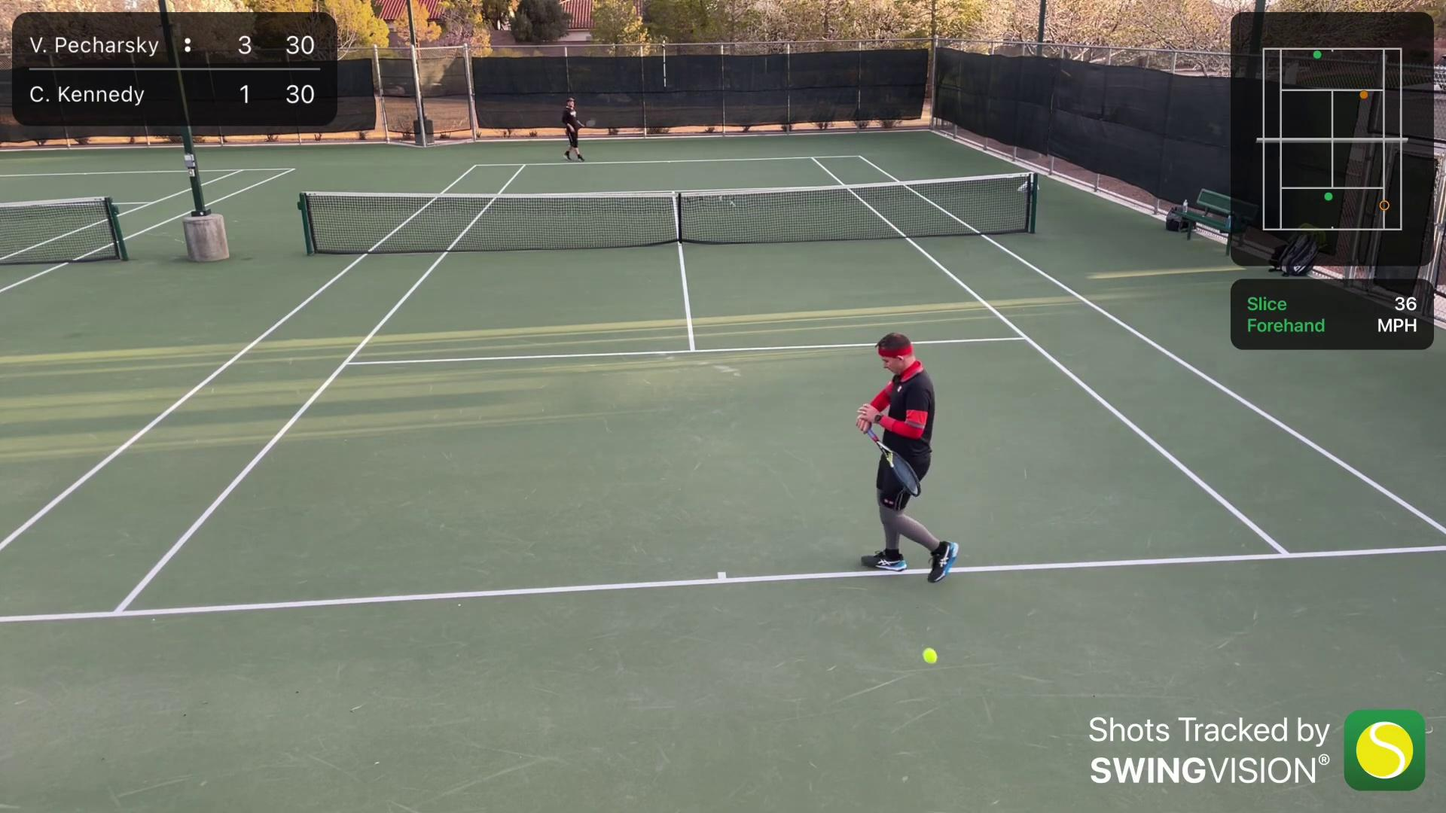ball: (918, 645, 941, 665)
